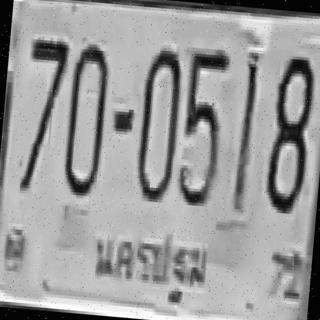N00: (133, 45, 182, 199), (62, 40, 110, 194)
N01: (230, 52, 260, 210)
N05: (174, 44, 230, 205)
N07: (18, 36, 68, 193)
N08: (263, 52, 316, 215)
P28: (84, 216, 215, 312)
